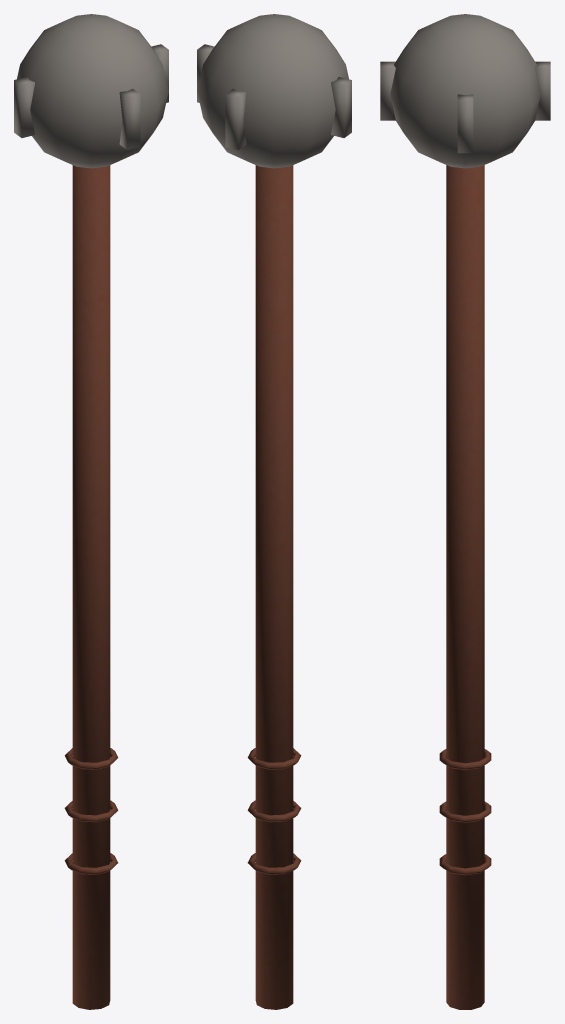
The model's file is mace.fbx.
The picture shows the model from 3 angles, left to right: view 1: azimuth 30°, elevation 25°; view 2: azimuth 150°, elevation 25°; view 3: azimuth 270°, elevation 25°; orthographic projection.
Parts seen in each view (by area): view 1: mace; view 2: mace; view 3: mace.
Part boxes in pixels (x1,y1,x2,y2): mace: (14,14,168,1009); mace: (197,14,351,1009); mace: (380,14,550,1009).
Bounding box in the file's own units: 0.088 × 0.56 × 0.088.
2 materials, 1 textured.
